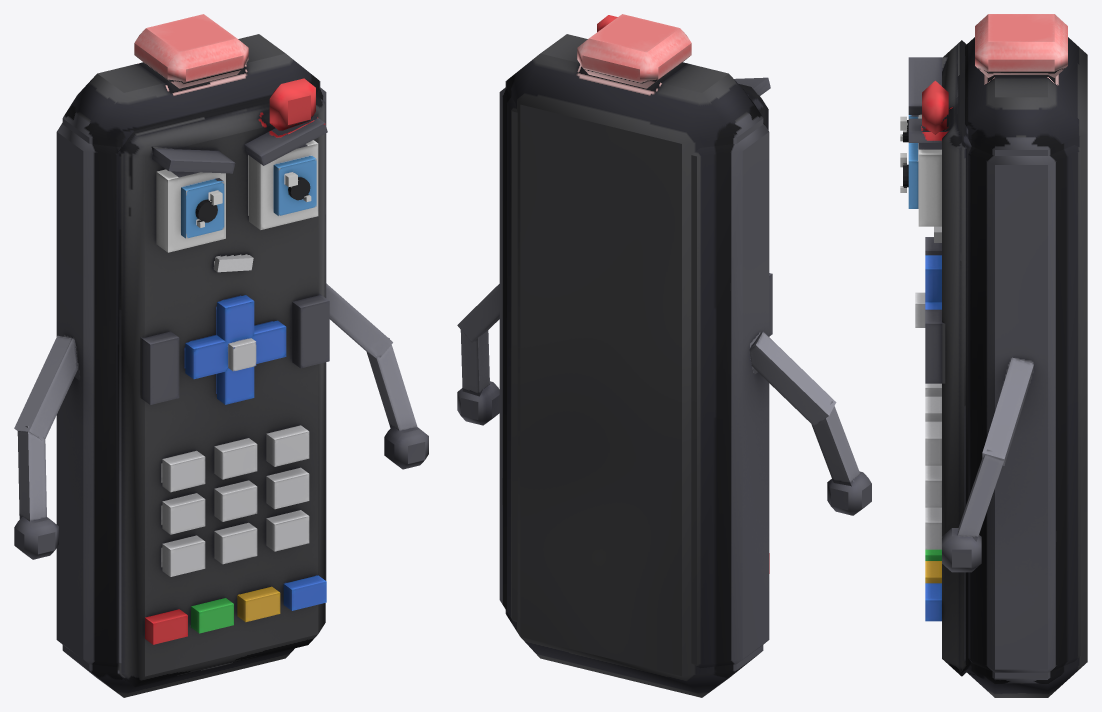
The model's file is TelecommandePerdue_Rig.fbx.
3 views of the same model, side by side, from view 1: azimuth 30°, elevation 25°; view 2: azimuth 150°, elevation 25°; view 3: azimuth 270°, elevation 25° (orthographic).
Visible parts, largest first — view 1: Body, ArmR, Ir, ArmL; view 2: Body, ArmR, Ir, ArmL; view 3: Body, ArmL, Ir.
Part boxes in pixels (bbox=[...]): Body: bbox=[56, 34, 329, 697]; ArmR: bbox=[14, 335, 77, 559]; Ir: bbox=[134, 14, 248, 88]; ArmL: bbox=[326, 283, 428, 469]; Body: bbox=[499, 15, 772, 697]; ArmR: bbox=[749, 331, 871, 515]; Ir: bbox=[577, 14, 691, 88]; ArmL: bbox=[457, 284, 499, 425]; Body: bbox=[900, 37, 1087, 697]; ArmL: bbox=[942, 357, 1034, 572]; Ir: bbox=[975, 14, 1067, 77].
Size of the model in its own units: 4 by 6 by 1.62.
Materials: 1 (1 with a texture image).
